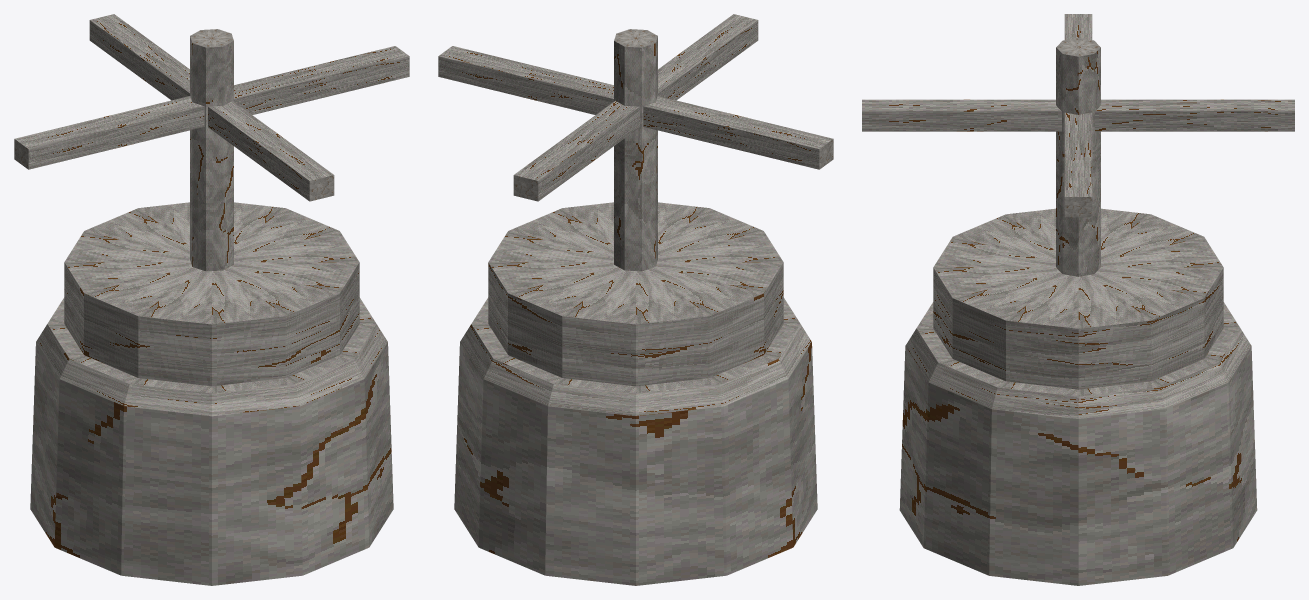
Rendered from moinho.glb.
3 views of the same model, side by side, from view 1: azimuth 30°, elevation 25°; view 2: azimuth 150°, elevation 25°; view 3: azimuth 270°, elevation 25° (orthographic).
Visible parts, largest first — view 1: moinho; view 2: moinho; view 3: moinho.
Boxes of the visible parts, x1,y1,x2,y2 form: moinho: (14, 14, 409, 585); moinho: (438, 14, 833, 585); moinho: (862, 14, 1294, 585).
Size of the model in its own units: 1.55 by 1.83 by 1.55.
Materials: 1 (1 with a texture image).
